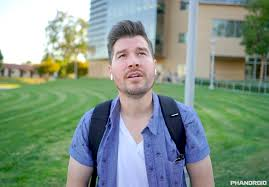earphone: (107, 64, 114, 81), (153, 59, 158, 76)
